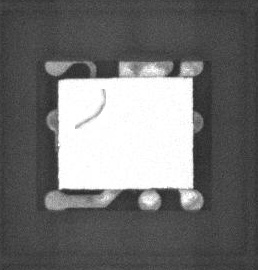DIE_INK: (72, 93, 100, 134)
